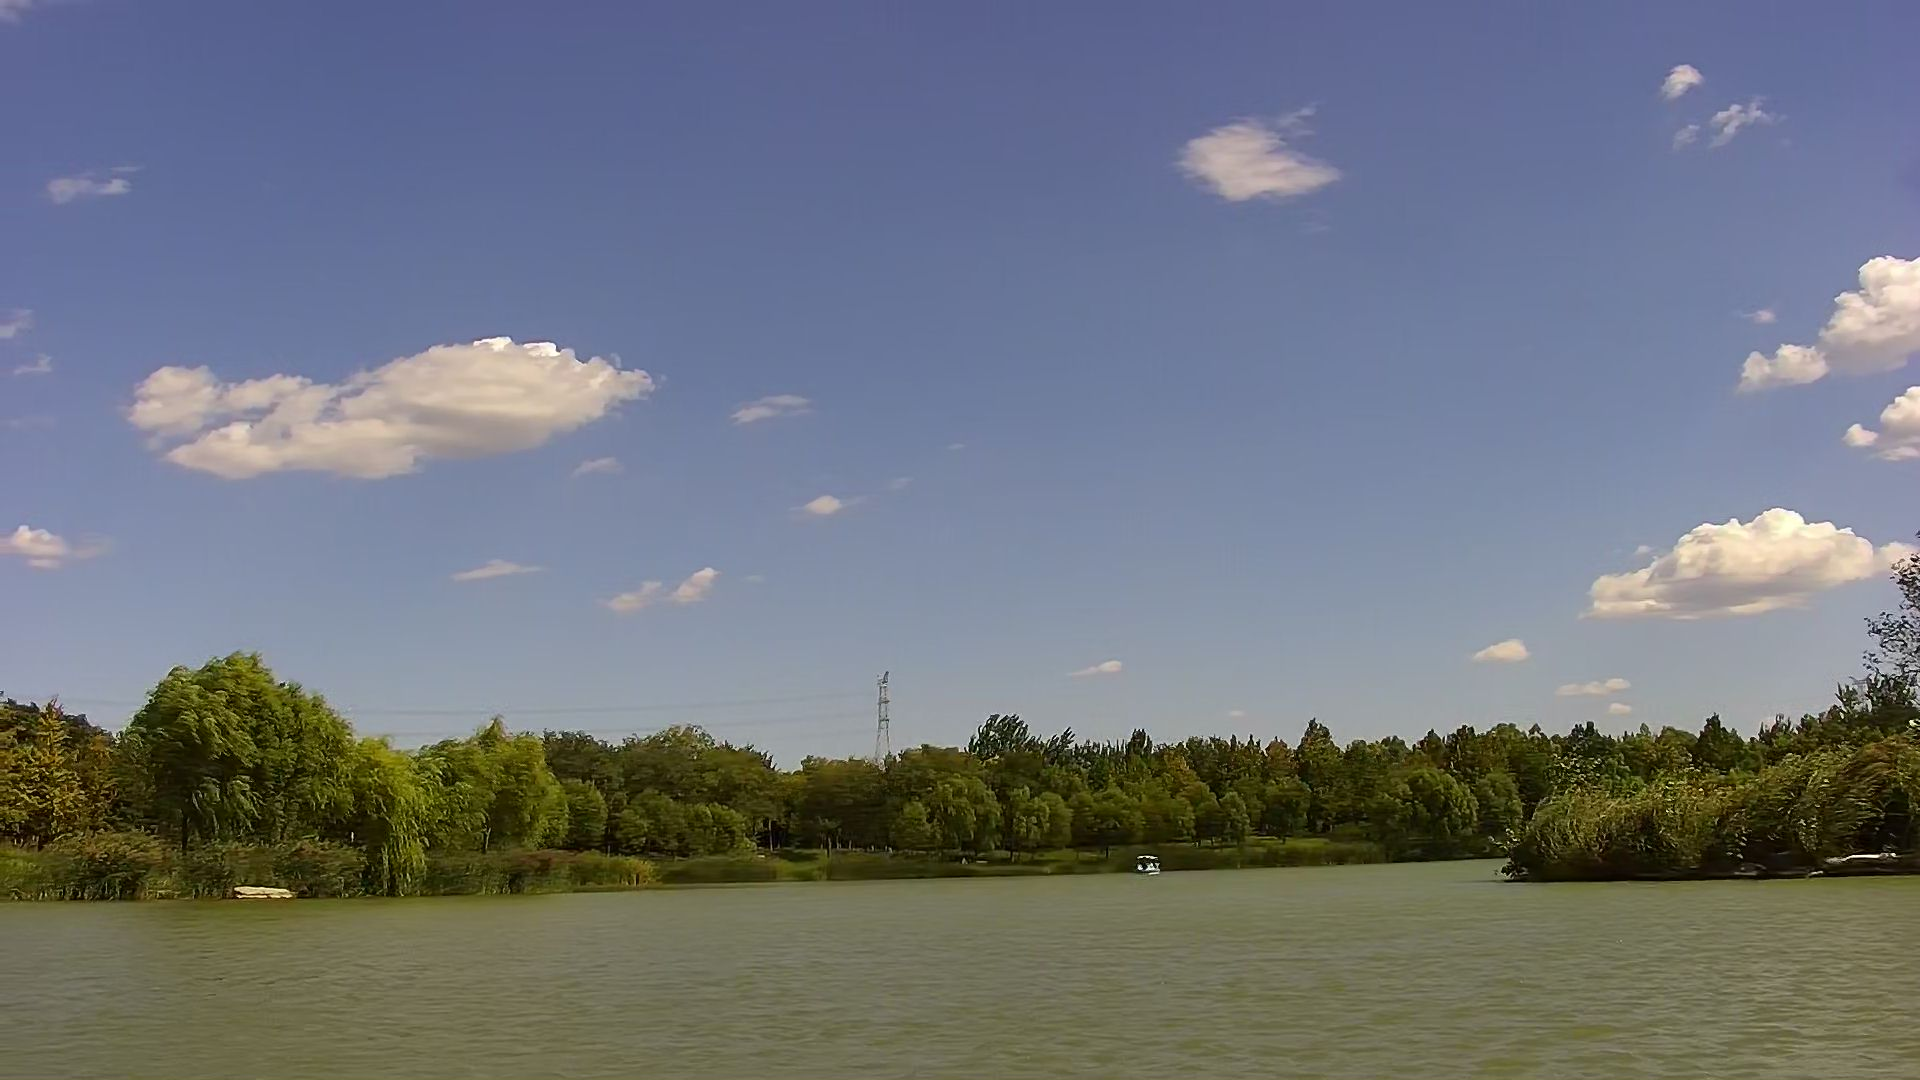boat: (1131, 849, 1153, 876)
rock: (1818, 849, 1894, 878), (231, 880, 287, 905)
